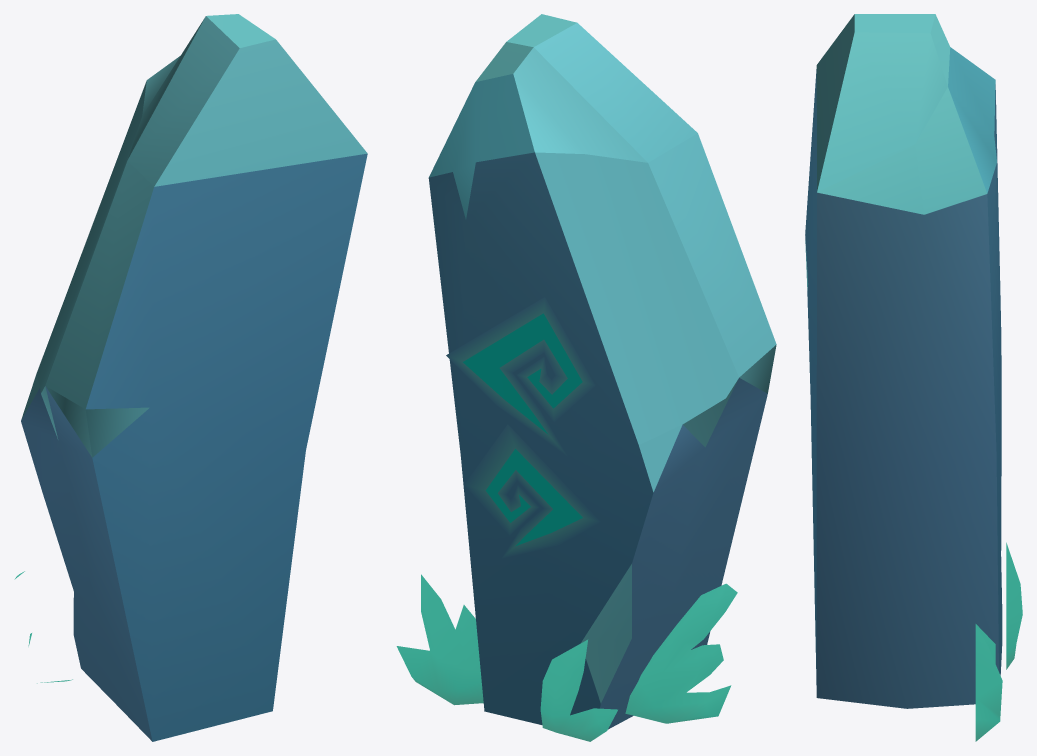
The model's file is obstacle-rune_stone_H2.glb.
3 renders of one model, left to right at view 1: azimuth 30°, elevation 25°; view 2: azimuth 150°, elevation 25°; view 3: azimuth 270°, elevation 25°, orthographic. The views are drawn at different scales.
Parts seen in each view (by area): view 1: obstacle-runestone_H2_vertex_color_baker.001; view 2: obstacle-runestone_H2_vertex_color_baker.001; view 3: obstacle-runestone_H2_vertex_color_baker.001.
Boxes of the visible parts, x1,y1,x2,y2 form: obstacle-runestone_H2_vertex_color_baker.001: (14, 14, 367, 741); obstacle-runestone_H2_vertex_color_baker.001: (396, 14, 776, 741); obstacle-runestone_H2_vertex_color_baker.001: (805, 14, 1022, 741).
Bounding box in the file's own units: 2.26 × 4.52 × 1.29.
